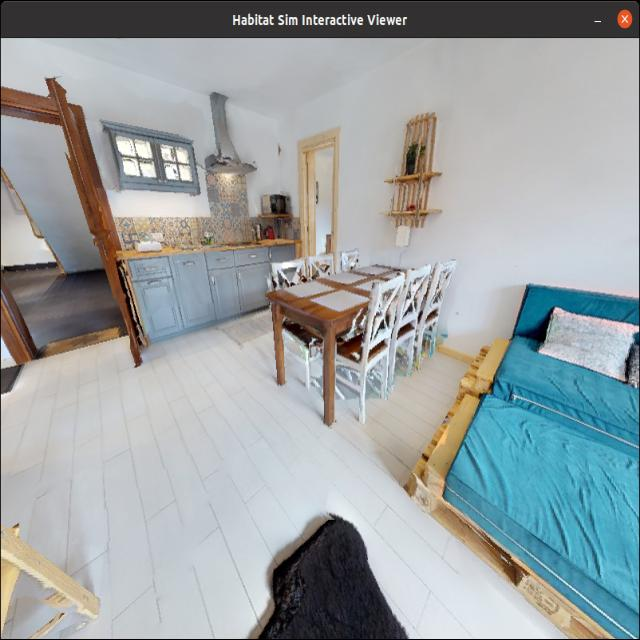chair: (319, 261, 399, 428)
door-frame: (0, 98, 129, 358)
sofa: (430, 269, 640, 640)
table: (259, 245, 408, 408)
